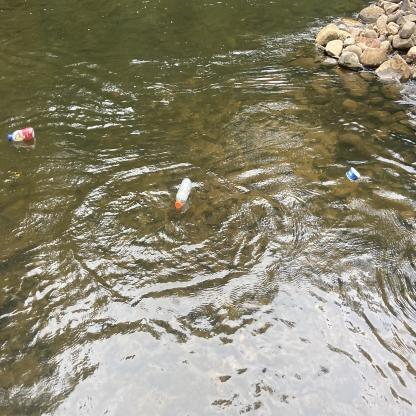trash: (170, 169, 202, 217), (5, 121, 41, 152), (339, 161, 367, 187)
